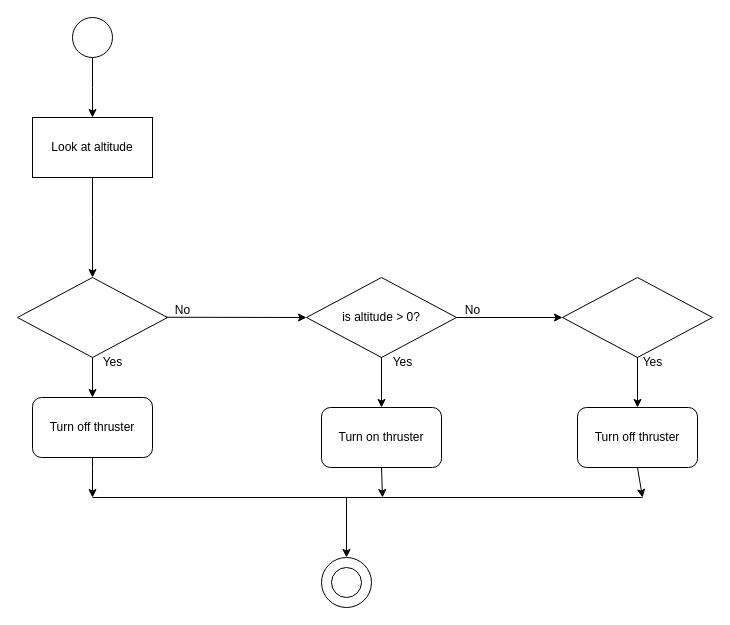
Image size: 730x625. Some labels were removed from this diagram. Here are the shapes that lost their labels. From the top down, the centre of each, then its label:
pixel 92 317: is altitude > 100?
pixel 637 317: is altitude =<0?
